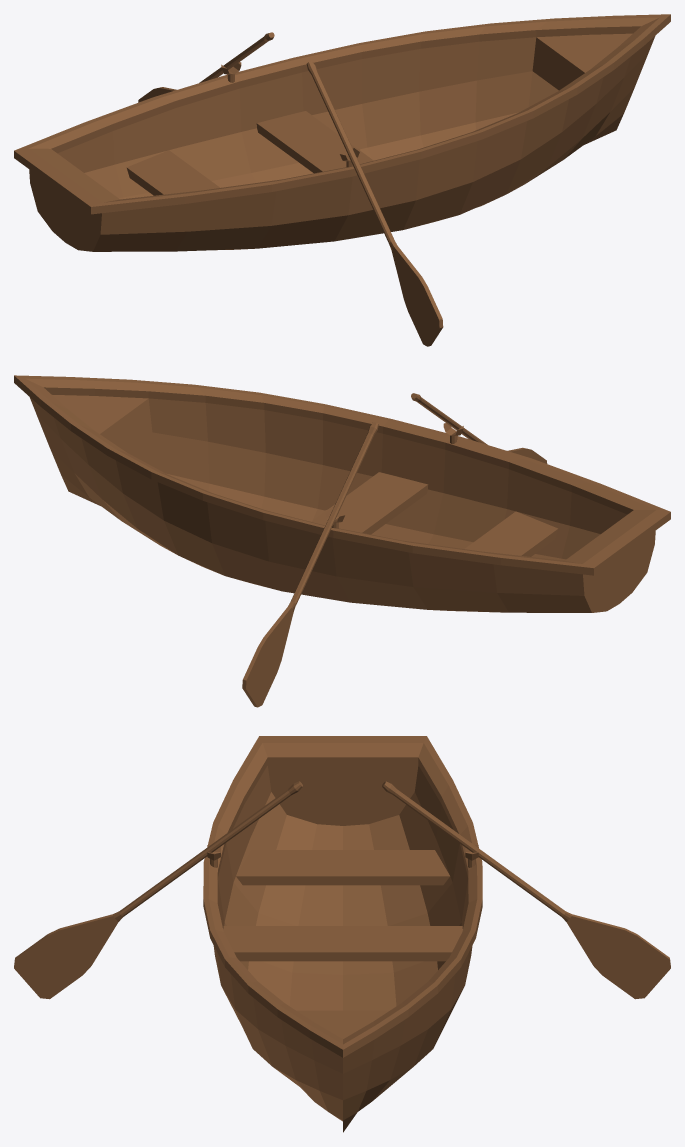
Rendered from rowboat.glb.
3 renders of one model, top to bottom at view 1: azimuth 30°, elevation 25°; view 2: azimuth 150°, elevation 25°; view 3: azimuth 270°, elevation 25°, orthographic. The views are drawn at different scales.
Parts seen in each view (by area): view 1: rowboat; view 2: rowboat; view 3: rowboat.
Boxes of the visible parts, box(x1,y1,x2,y2) form: rowboat: box(14, 14, 670, 346); rowboat: box(14, 375, 670, 707); rowboat: box(14, 736, 670, 1132).
Size of the model in its own units: 3.39 by 1.04 by 2.86.
